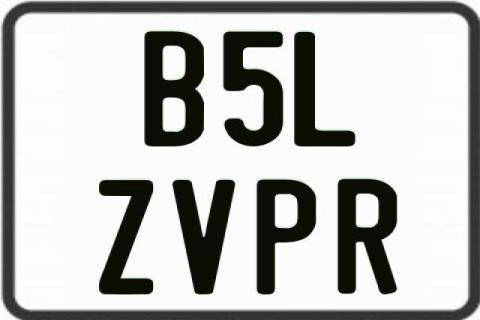0: (223, 29, 287, 150)
B: (144, 29, 208, 148)
L: (294, 32, 361, 149)
P: (255, 177, 319, 293)
R: (337, 178, 402, 296)
V: (173, 178, 239, 296)
Z: (99, 180, 158, 298)
